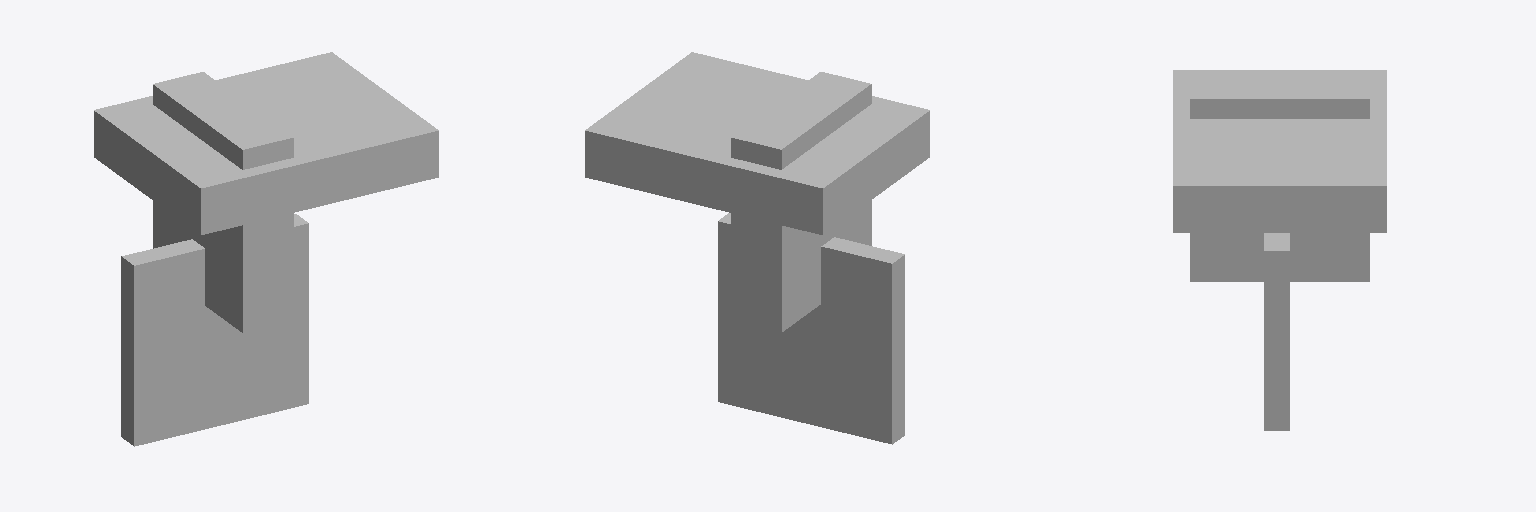
File: refined_meshes.obj
3 renders of one model, left to right at view 1: azimuth 30°, elevation 25°; view 2: azimuth 150°, elevation 25°; view 3: azimuth 270°, elevation 25°, orthographic.
Parts seen in each view (by area): view 1: refined_mesh_B, refined_mesh_A; view 2: refined_mesh_B, refined_mesh_A; view 3: refined_mesh_B, refined_mesh_A.
Part boxes in pixels (left/top/right/bottom): refined_mesh_B: left=94, top=52, right=438, bottom=446; refined_mesh_A: left=153, top=72, right=293, bottom=332; refined_mesh_B: left=585, top=52, right=929, bottom=444; refined_mesh_A: left=731, top=72, right=871, bottom=332; refined_mesh_B: left=1173, top=70, right=1386, bottom=430; refined_mesh_A: left=1190, top=74, right=1369, bottom=281.
Size of the model in its own units: 29.44 by 33.31 by 21.12.